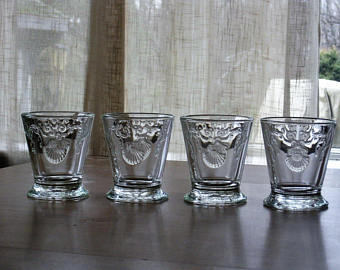Nonrec_Glass: (179, 107, 256, 216), (104, 106, 172, 211), (261, 113, 331, 215), (26, 110, 96, 204)
